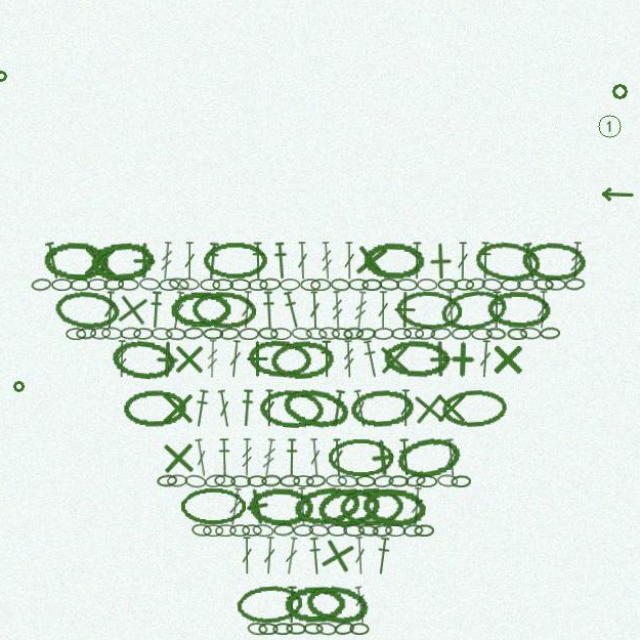chain: (285, 384, 355, 432), (440, 288, 510, 335), (397, 432, 465, 479), (308, 577, 375, 623), (297, 481, 365, 526), (119, 338, 186, 382), (474, 242, 541, 286), (320, 482, 386, 526), (64, 291, 131, 333), (364, 483, 429, 525), (242, 579, 308, 620), (398, 291, 464, 332), (99, 243, 163, 285), (253, 339, 318, 380), (264, 388, 330, 428), (353, 388, 418, 428), (275, 340, 340, 380), (198, 292, 263, 332), (443, 388, 507, 428), (386, 340, 451, 379), (521, 244, 584, 284), (254, 484, 318, 523), (487, 292, 551, 331), (54, 244, 118, 283), (343, 484, 406, 523), (289, 580, 351, 619), (132, 389, 195, 427), (188, 485, 252, 522), (332, 437, 396, 474), (210, 245, 274, 282), (366, 245, 428, 283), (178, 293, 239, 330), (211, 471, 233, 486), (338, 615, 359, 630), (407, 471, 428, 486), (176, 279, 197, 294), (466, 279, 487, 294), (258, 520, 280, 534), (192, 472, 214, 486), (341, 472, 363, 486), (159, 328, 181, 342), (310, 328, 332, 342), (335, 328, 357, 342), (253, 616, 274, 630), (320, 616, 341, 630), (313, 520, 334, 534), (361, 520, 382, 534), (375, 520, 396, 534), (405, 520, 426, 534), (376, 472, 397, 486), (173, 328, 194, 342), (226, 328, 247, 342), (296, 328, 317, 342), (359, 328, 380, 342), (432, 328, 453, 342), (486, 328, 507, 342), (42, 280, 63, 294), (334, 280, 355, 294), (482, 280, 503, 294), (519, 328, 541, 341), (221, 472, 242, 485), (310, 472, 331, 485), (330, 472, 351, 485), (111, 328, 132, 341), (129, 328, 150, 341), (323, 328, 344, 341), (452, 328, 473, 341), (186, 280, 207, 293), (265, 280, 286, 293), (532, 280, 553, 293), (544, 280, 565, 293), (563, 280, 584, 293), (199, 520, 219, 533), (279, 520, 299, 533), (165, 472, 185, 485), (175, 472, 195, 485), (267, 472, 287, 485), (285, 472, 305, 485), (439, 472, 459, 485), (86, 328, 106, 341), (100, 328, 120, 341), (191, 328, 211, 341), (264, 328, 284, 341), (347, 328, 367, 341), (406, 328, 426, 341), (417, 328, 437, 341), (539, 328, 559, 341), (113, 280, 133, 293), (148, 280, 168, 293), (382, 280, 402, 293), (222, 521, 243, 533), (347, 521, 368, 533), (298, 473, 319, 485), (418, 473, 439, 485), (276, 329, 297, 341), (376, 329, 397, 341), (472, 329, 493, 341), (62, 281, 83, 293), (127, 281, 148, 293), (219, 281, 240, 293), (236, 281, 257, 293), (399, 281, 420, 293), (264, 617, 284, 629), (278, 617, 298, 629), (291, 617, 311, 629), (308, 617, 328, 629), (353, 617, 373, 629), (210, 521, 230, 533), (236, 521, 256, 533), (248, 521, 268, 533), (298, 521, 318, 533), (331, 521, 351, 533), (388, 521, 408, 533), (416, 521, 436, 533), (237, 473, 257, 485), (253, 473, 273, 485), (359, 473, 379, 485), (391, 473, 411, 485), (452, 473, 472, 485), (76, 329, 96, 341), (142, 329, 162, 341), (210, 329, 230, 341), (245, 329, 265, 341), (394, 329, 414, 341), (507, 329, 527, 341), (80, 281, 100, 293), (97, 281, 117, 293), (167, 281, 187, 293), (207, 281, 227, 293), (254, 281, 274, 293), (285, 281, 305, 293), (305, 281, 325, 293), (315, 281, 335, 293), (352, 281, 372, 293), (365, 281, 385, 293), (419, 281, 439, 293), (439, 281, 459, 293), (455, 281, 475, 293), (501, 281, 521, 293), (517, 281, 537, 293)
double: (222, 389, 240, 427), (355, 389, 373, 427), (288, 533, 305, 571), (233, 485, 250, 523), (200, 437, 217, 475), (177, 293, 194, 331), (445, 437, 460, 475), (234, 341, 249, 378), (268, 533, 282, 570), (412, 485, 426, 522), (313, 437, 327, 474), (335, 437, 349, 474), (479, 341, 493, 378), (246, 293, 260, 330), (535, 293, 549, 330), (357, 533, 370, 570), (301, 485, 314, 522), (113, 293, 126, 330), (313, 293, 326, 330), (446, 293, 459, 330), (301, 245, 314, 282), (247, 533, 259, 570), (269, 389, 281, 426), (402, 389, 414, 426), (380, 293, 392, 330), (191, 245, 203, 282), (347, 245, 359, 282), (458, 245, 470, 282)
half_double: (286, 292, 308, 331), (364, 340, 385, 379), (53, 244, 74, 283), (199, 389, 218, 427), (332, 389, 351, 427), (520, 245, 539, 283), (377, 533, 395, 571), (211, 245, 228, 283), (312, 533, 328, 571), (400, 437, 416, 474), (245, 389, 261, 426), (156, 293, 172, 330), (278, 245, 294, 282), (267, 293, 282, 330), (290, 581, 304, 618), (224, 437, 238, 474), (290, 437, 304, 474), (324, 341, 338, 378), (490, 293, 504, 330), (257, 245, 271, 282), (412, 245, 426, 282), (479, 245, 493, 282)
noise: (594, 119, 621, 146), (597, 192, 631, 206), (608, 89, 627, 108), (24, 380, 37, 393), (7, 77, 19, 89)
single: (319, 529, 364, 574), (242, 482, 285, 525), (121, 291, 162, 332), (354, 243, 395, 284), (366, 436, 406, 476), (411, 388, 451, 428), (167, 437, 205, 475), (156, 341, 194, 379), (378, 341, 416, 379), (445, 341, 483, 379), (90, 245, 128, 283), (423, 245, 461, 283), (167, 389, 204, 426), (434, 389, 471, 426), (178, 341, 215, 378), (245, 341, 282, 378), (423, 341, 460, 378), (489, 341, 526, 378), (389, 293, 426, 330), (134, 245, 171, 282)
treble: (266, 437, 283, 475), (356, 581, 372, 619), (356, 293, 372, 331), (167, 245, 182, 282), (567, 245, 582, 282), (324, 245, 338, 282), (213, 341, 226, 378), (346, 341, 359, 378), (335, 293, 348, 330), (247, 437, 259, 474), (125, 341, 137, 378)
